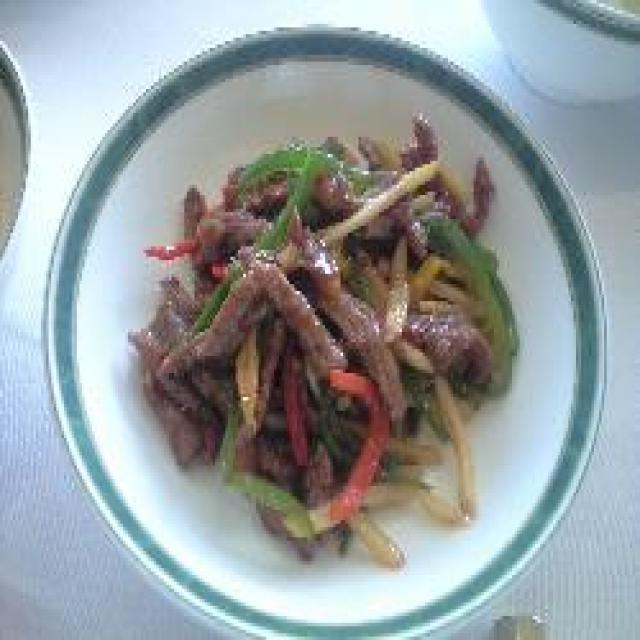牛肉菜式: (28, 7, 614, 640)
